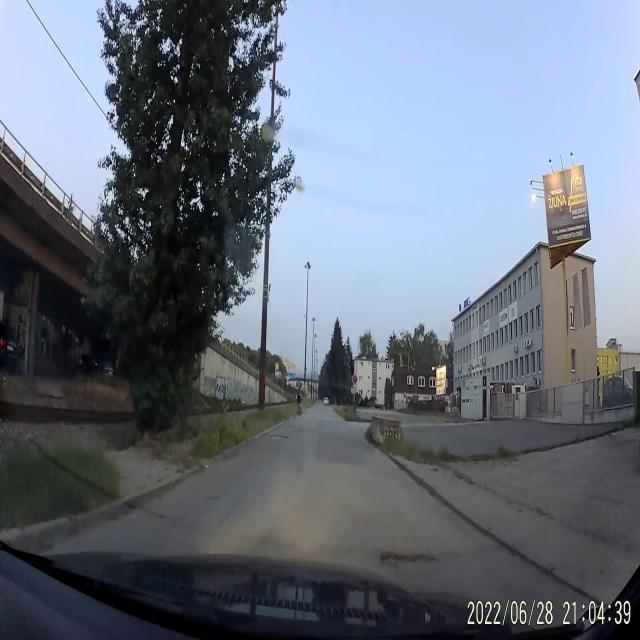Pothole: (378, 543, 434, 572), (208, 494, 225, 507), (270, 433, 288, 445)
